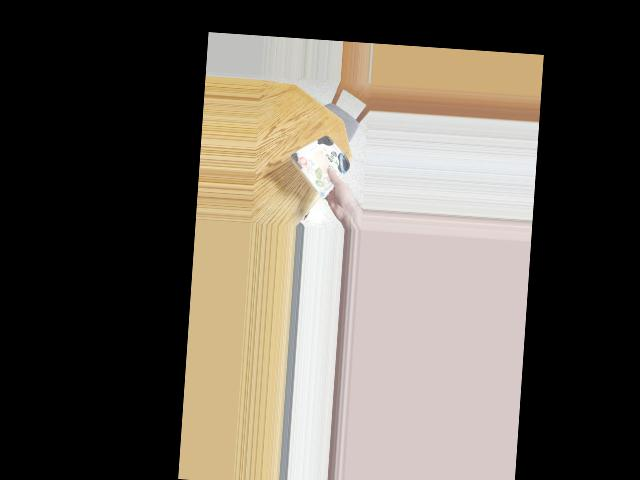cheese: (297, 135, 343, 194)
